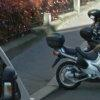Motorcycle: (36, 27, 100, 89)
